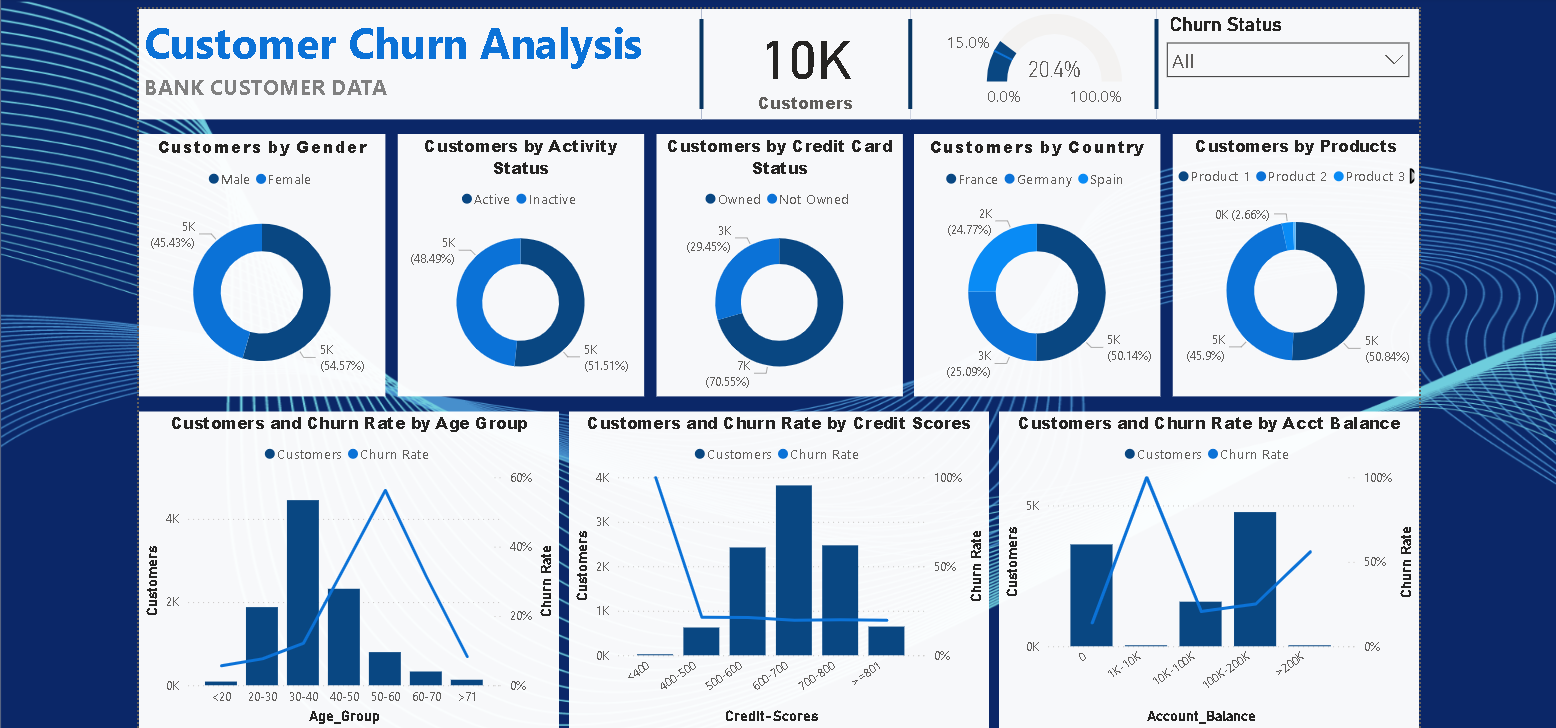

The page's visual inventory and layout, read from the dashboard file:
{"tool":"powerbi","page":{"name":"Page 1","canvas":[1280,720],"ordinal":0},"visuals":[{"type":"card","fields":{"Values":["Customer Data.Customers"]},"box":[562.5,0,208.8,110],"z":0},{"type":"donutChart","fields":{"Category":["Customer Data.Gender"],"Y":["Customer Data.Customers"]},"box":[0,125,246.2,262.5],"z":1000},{"type":"donutChart","title":"Customers by Activity Status","fields":{"Y":["Customer Data.Customers"],"Category":["Customer Data.Active_Member"]},"box":[258.6,125,246,262.5],"z":2000},{"type":"donutChart","title":"Customers by Credit Card Status","fields":{"Y":["Customer Data.Customers"],"Category":["Customer Data.Credit_Card_Status"]},"box":[516.9,125,246,262.5],"z":3000},{"type":"donutChart","fields":{"Category":["Customer Data.Country"],"Y":["Customer Data.Customers"]},"box":[775.2,125,246.2,262.5],"z":4000},{"type":"donutChart","fields":{"Category":["Customer Data.Products"],"Y":["Customer Data.Customers"]},"box":[1033.8,125,246.2,262.5],"z":5000},{"type":"gauge","title":"Customers and Churn Rate by Age Groups","fields":{"MinValue":["Min(Customer Data.Min Churn Rate)"],"MaxValue":["Max(Customer Data.Max Churn Rate)"],"TargetValue":["Max(Customer Data.Target Churn Rate )"],"Y":["Customer Data.Churn Rate"]},"box":[771.2,0,246.2,110],"z":6000},{"type":"lineClusteredColumnComboChart","title":"Customers and Churn Rate by Credit Scores","fields":{"Category":["Credit Card Status Groups.Credit-Scores"],"Y":["Customer Data.Customers"],"Y2":["Customer Data.Churn Rate"]},"box":[430,402.5,420,317.5],"z":7000},{"type":"lineClusteredColumnComboChart","title":"Customers and Churn Rate by Acct Balance","fields":{"Y":["Customer Data.Customers"],"Y2":["Customer Data.Churn Rate"],"Category":["Account_Balance_Groups.Account_Balance"]},"box":[860,402.5,420,317.5],"z":8000},{"type":"slicer","fields":{"Values":["Customer Data.Churn"]},"box":[1017.5,0,262.5,110],"z":9000},{"type":"lineClusteredColumnComboChart","title":"Customers and Churn Rate by Age Group","fields":{"Y":["Customer Data.Customers"],"Y2":["Customer Data.Churn Rate"],"Category":["Age Groups.Age_Group"]},"box":[0,402.5,420,317.5],"z":10000},{"type":"textbox","box":[0,0,562.5,110],"z":11000},{"type":"shape","box":[466.2,10,192.5,90],"z":11001},{"type":"shape","box":[675,10,192.5,90],"z":11002},{"type":"shape","box":[921.2,10,192.5,90],"z":11003}]}

Visuals, with their boxes in screenshot pixels (x1, y1, x2, y2):
card - Customer Data.Customers: [x1=696, y1=4, x2=904, y2=114]
donutChart - Customer Data.Gender x Customer Data.Customers: [x1=134, y1=129, x2=380, y2=391]
"Customers by Activity Status" donutChart: [x1=392, y1=129, x2=638, y2=391]
"Customers by Credit Card Status" donutChart: [x1=650, y1=129, x2=896, y2=391]
donutChart - Customer Data.Country x Customer Data.Customers: [x1=908, y1=129, x2=1154, y2=391]
donutChart - Customer Data.Products x Customer Data.Customers: [x1=1167, y1=129, x2=1412, y2=391]
"Customers and Churn Rate by Age Groups" gauge: [x1=904, y1=4, x2=1150, y2=114]
"Customers and Churn Rate by Credit Scores" lineClusteredColumnComboChart: [x1=563, y1=406, x2=983, y2=723]
"Customers and Churn Rate by Acct Balance" lineClusteredColumnComboChart: [x1=993, y1=406, x2=1412, y2=723]
slicer - Customer Data.Churn: [x1=1150, y1=4, x2=1412, y2=114]
"Customers and Churn Rate by Age Group" lineClusteredColumnComboChart: [x1=134, y1=406, x2=553, y2=723]
textbox: [x1=134, y1=4, x2=696, y2=114]
shape: [x1=599, y1=14, x2=792, y2=104]
shape: [x1=808, y1=14, x2=1000, y2=104]
shape: [x1=1054, y1=14, x2=1246, y2=104]
